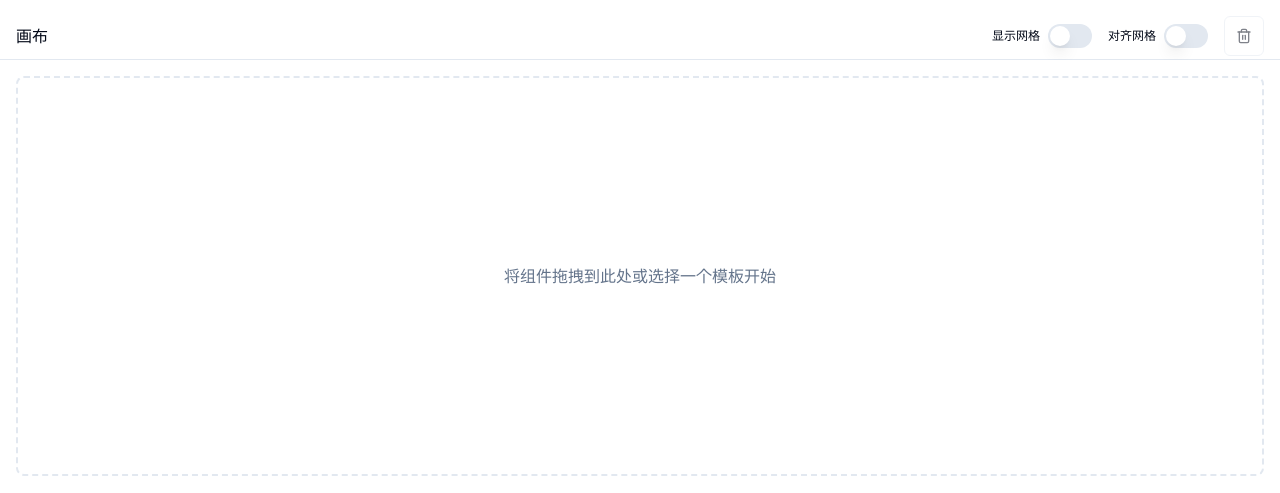
Canvas › Grid and Snap Functionality › toggles snap to grid
Click the switch named "对齐网格" next to "对齐网格". click: click(1186, 36)
box: [1164,24,1208,48]
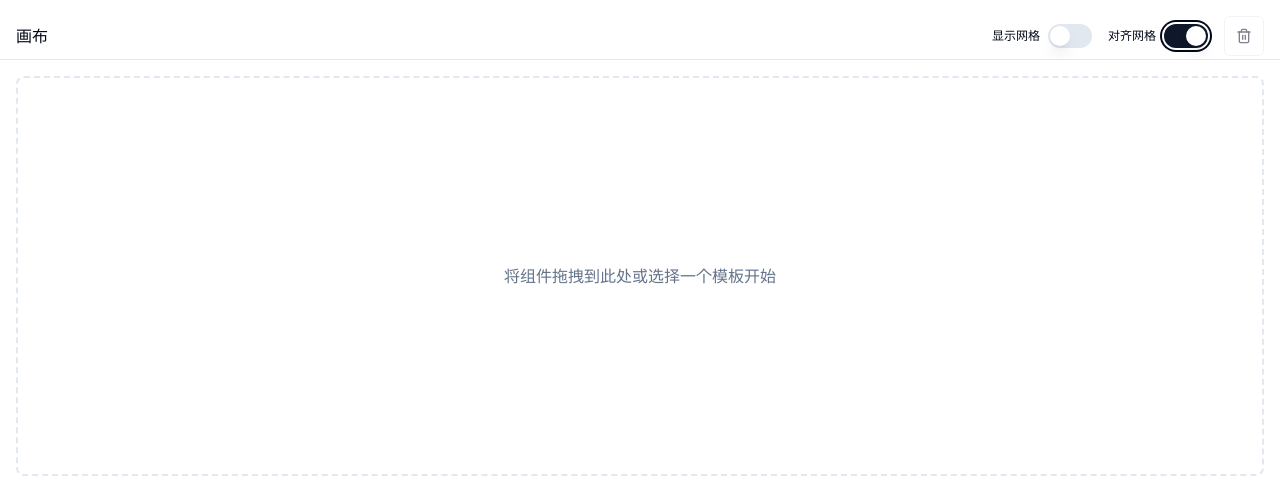
Check: the switch named "对齐网格" next to "对齐网格" is checked, box [1164,24,1208,48]
